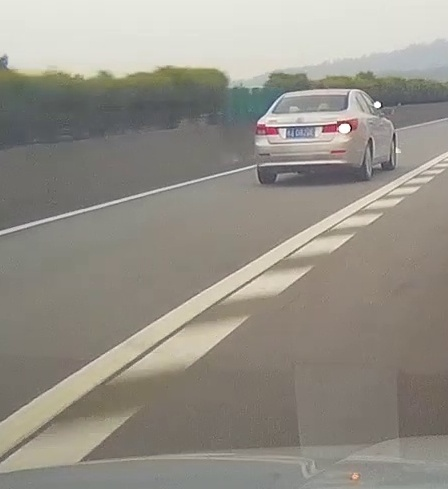L_light: (256, 123, 279, 135)
R_light: (322, 118, 357, 133)
T_light: (305, 96, 321, 98)
day-right: (255, 90, 359, 185)
